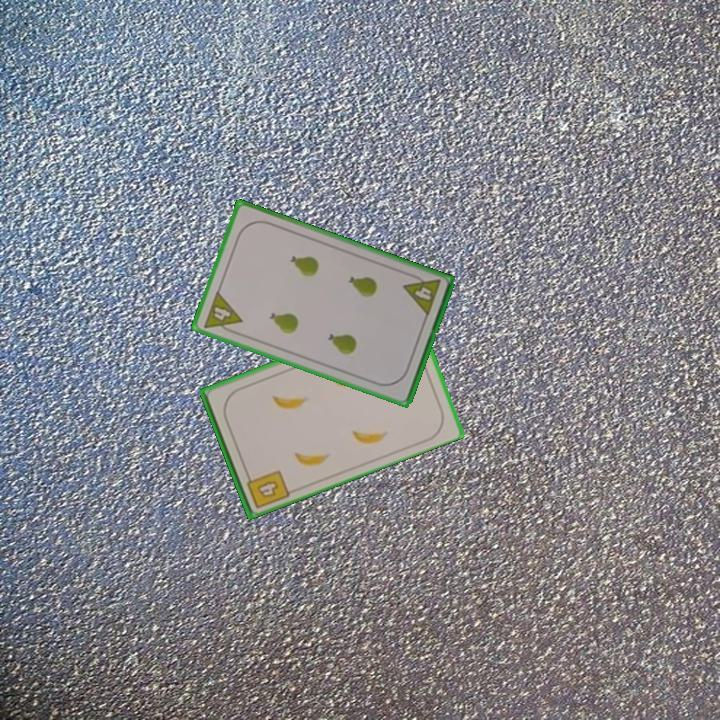4b: (242, 466, 292, 511)
4p: (200, 287, 245, 338), (400, 270, 443, 319)
